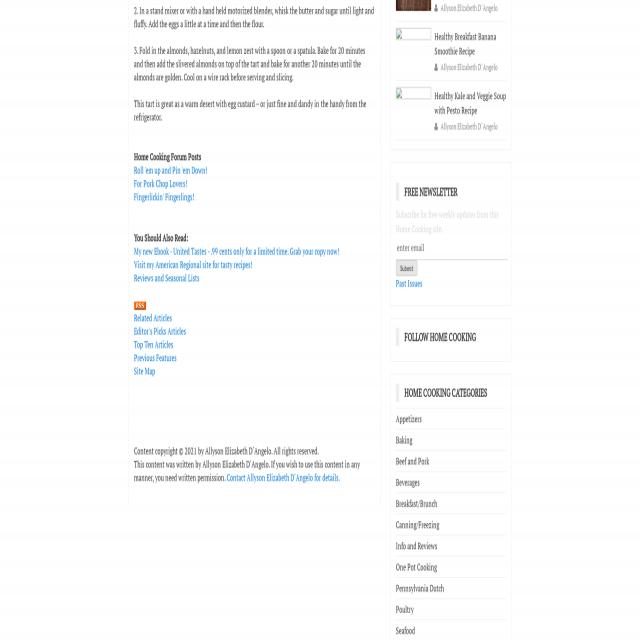button: (396, 260, 418, 276), (134, 302, 146, 310)
field: (396, 236, 508, 260)
